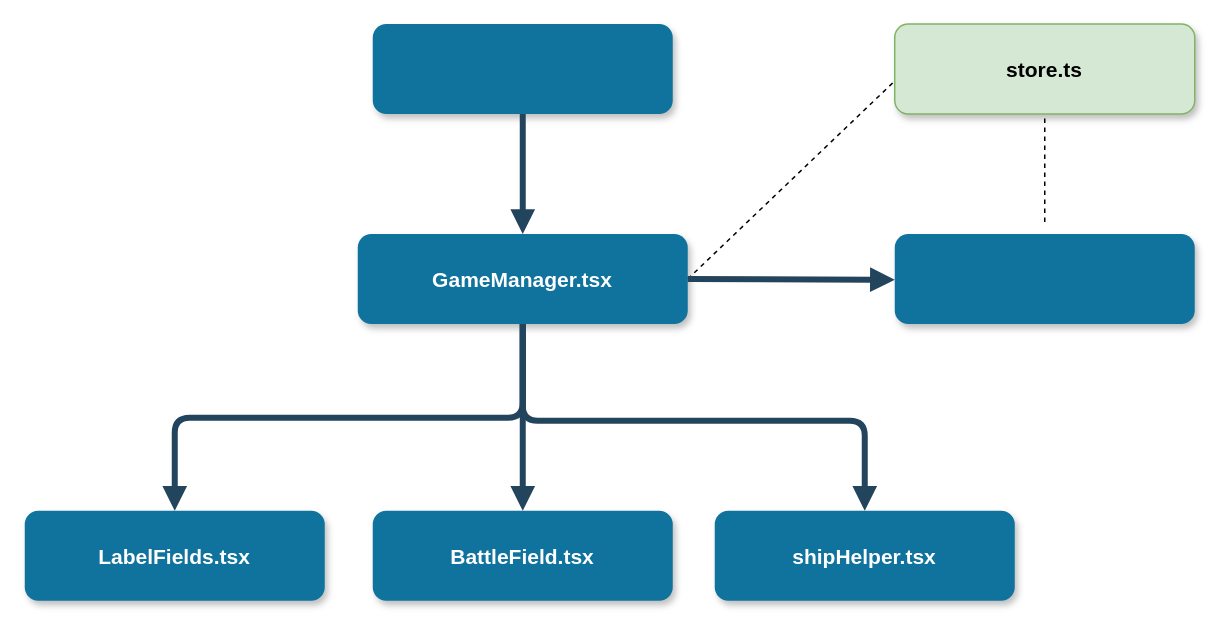
Some shapes in this 1220 by 626 pixel diagram are drawn without their labels. The shapes that lost their labels are listed below. From the top down, each one's centre as x and y in pixels, then its label:
(523,70): App.tsx
(1045,280): fieldHelper.tsx
